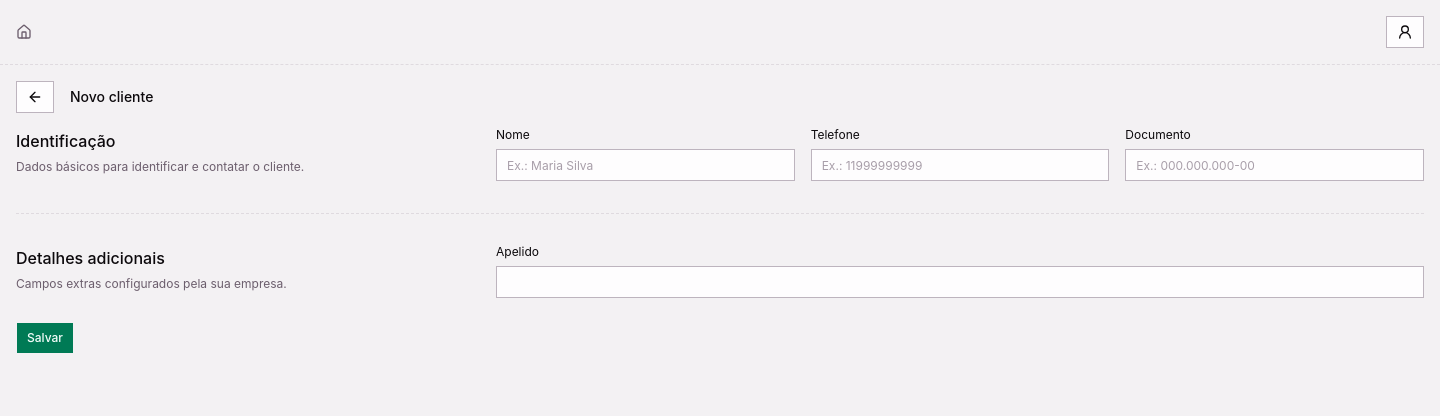
Test: CustomerCreatePage (T22 — WEB-04, WEB-13) › WEB-04 AC3: a 400 response keeps the form filled and shows the returned message, without navigating
Type "Ana" into the field labelled "Nome" at (645, 165), box [496, 149, 795, 181]
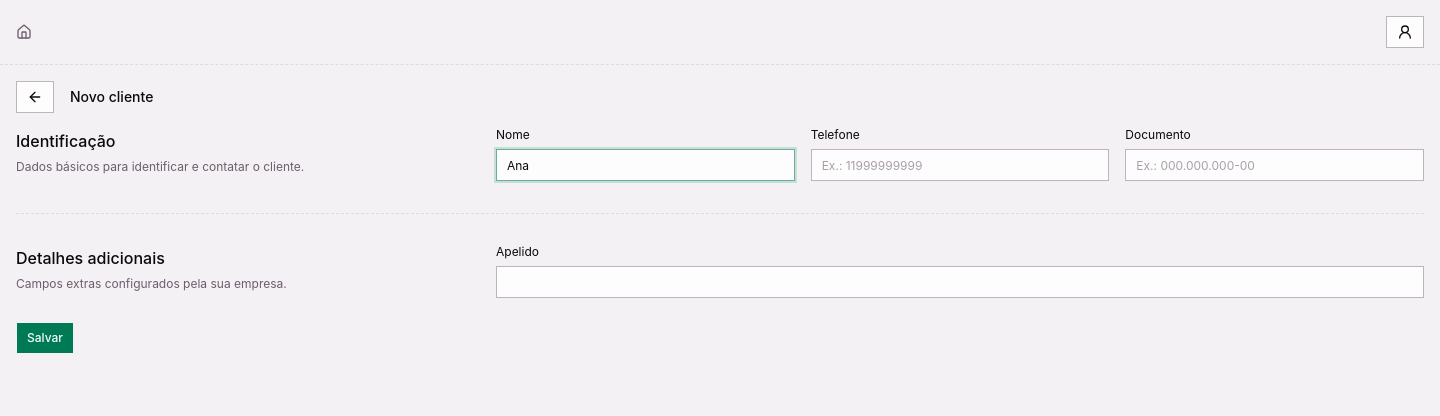
Type "11999999999" into the field labelled "Telefone" at (960, 165), box [811, 149, 1109, 181]
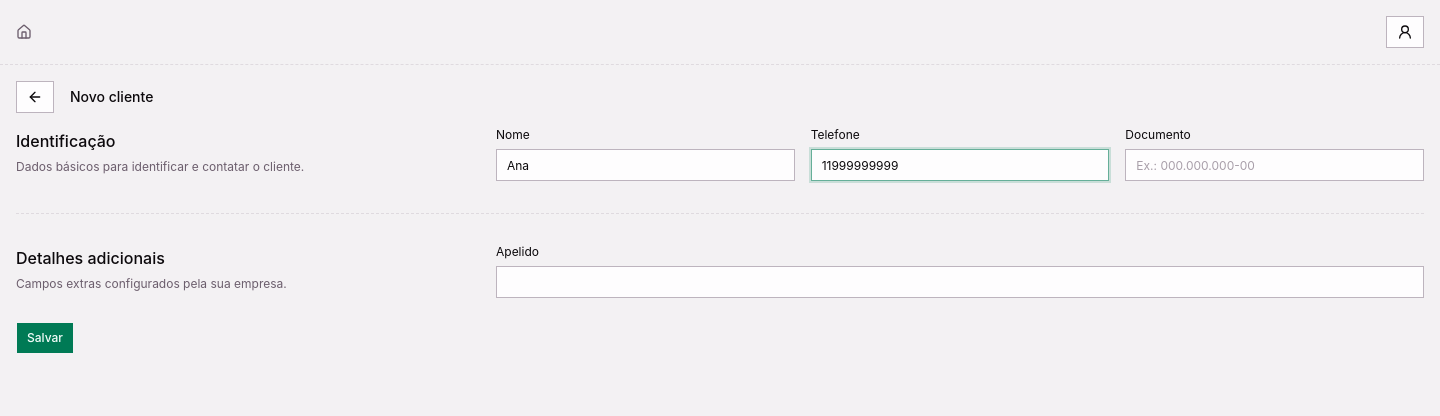
Click the button "Salvar" at (45, 338), box [16, 322, 74, 354]
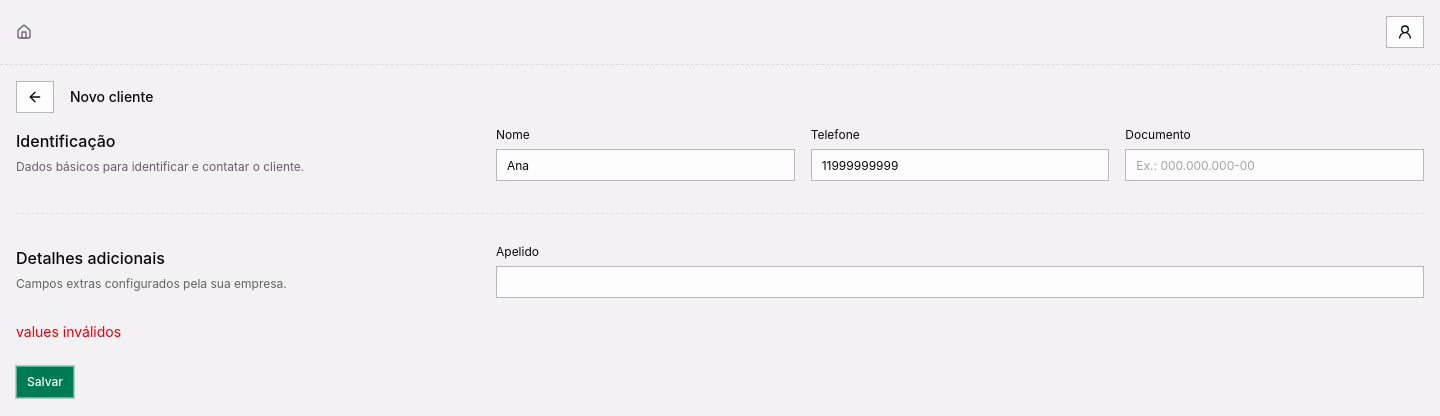
Result: the message reads "values inválidos" at [16, 323, 121, 340]
